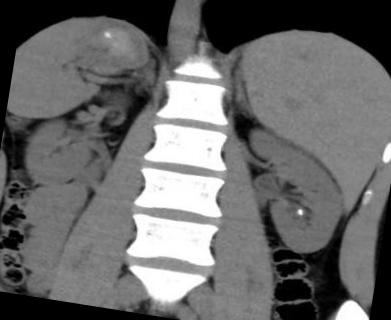Tas_Var: (292, 202, 309, 222)
